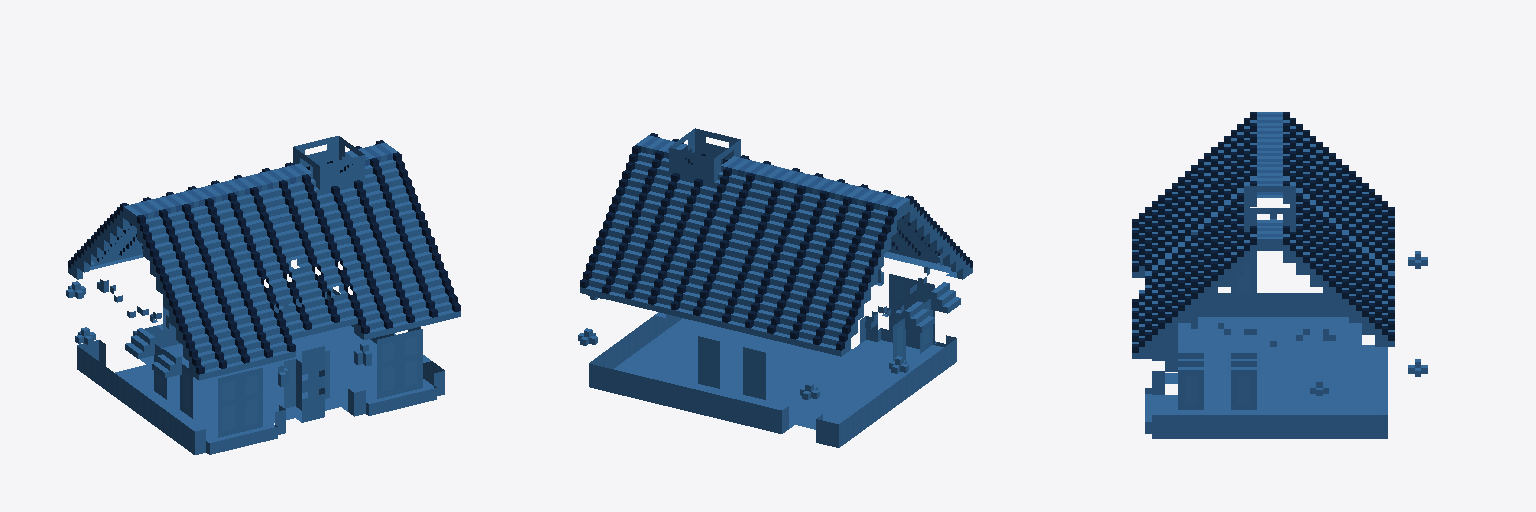
The picture shows the model from 3 angles: view 1: azimuth 30°, elevation 25°; view 2: azimuth 150°, elevation 25°; view 3: azimuth 270°, elevation 25°; orthographic projection.
Visible parts, largest first — view 1: fried_fish1; view 2: fried_fish1; view 3: fried_fish1.
Part boxes in pixels (x1,y1,x2,y2): fried_fish1: (66,136,460,454); fried_fish1: (578,128,972,447); fried_fish1: (1132,112,1427,438).
Size of the model in its own units: 56 by 41 by 45.
1 materials, 1 textured.